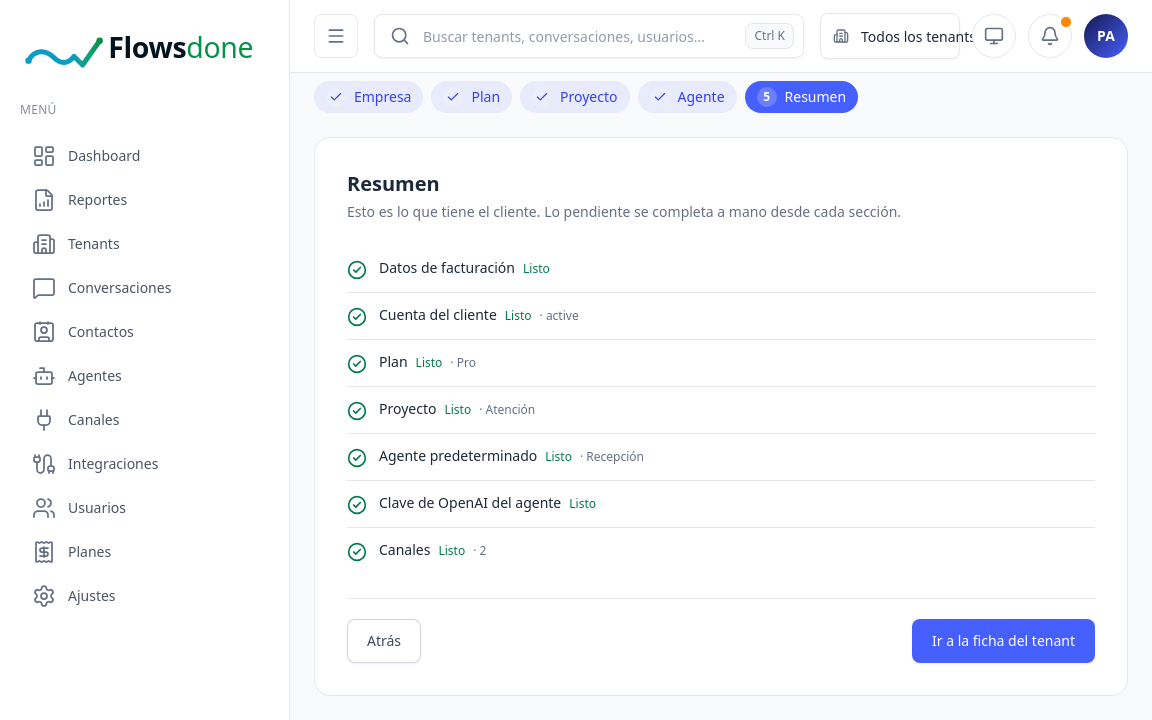
it: Alta de cliente (wizard) › retoma un cliente en el primer paso pendiente
(page scrolled)
Expected: the text "Paso 5 de 5" is shown, [314,49,389,68]
Click the button "Atrás". click: (384,641)
box: [347,619,421,663]
(page scrolled)
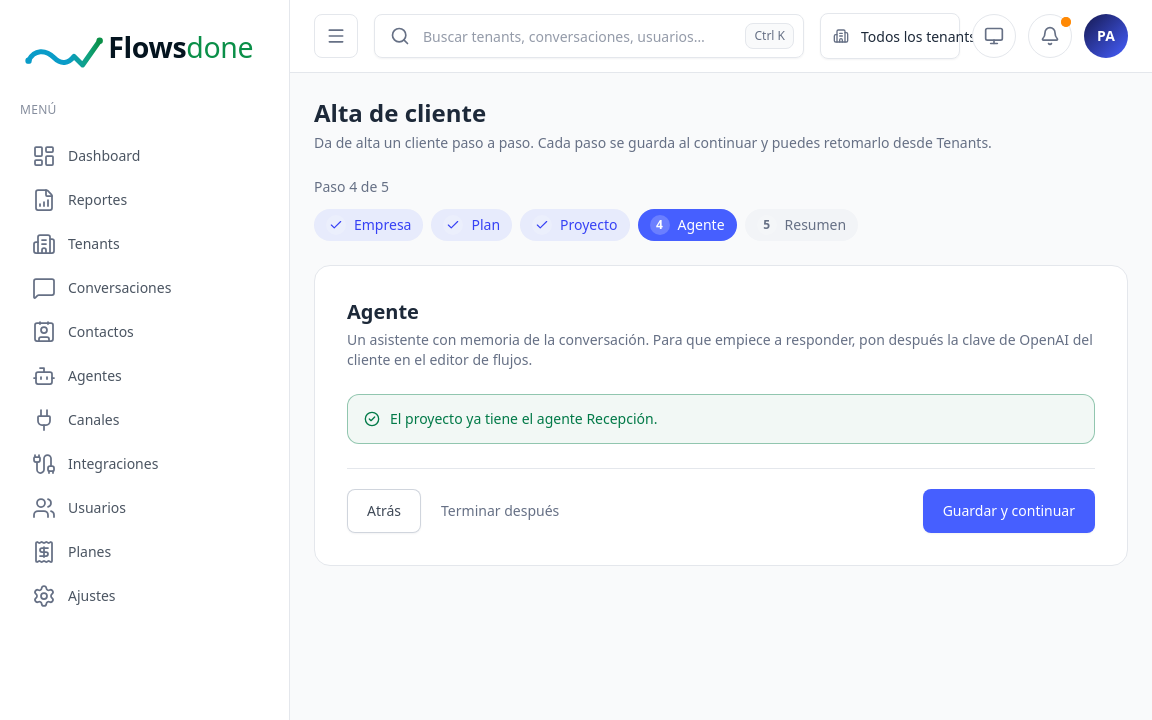
Expected: the text "El proyecto ya tiene el agente Recepción." is shown, [390,409,657,428]
